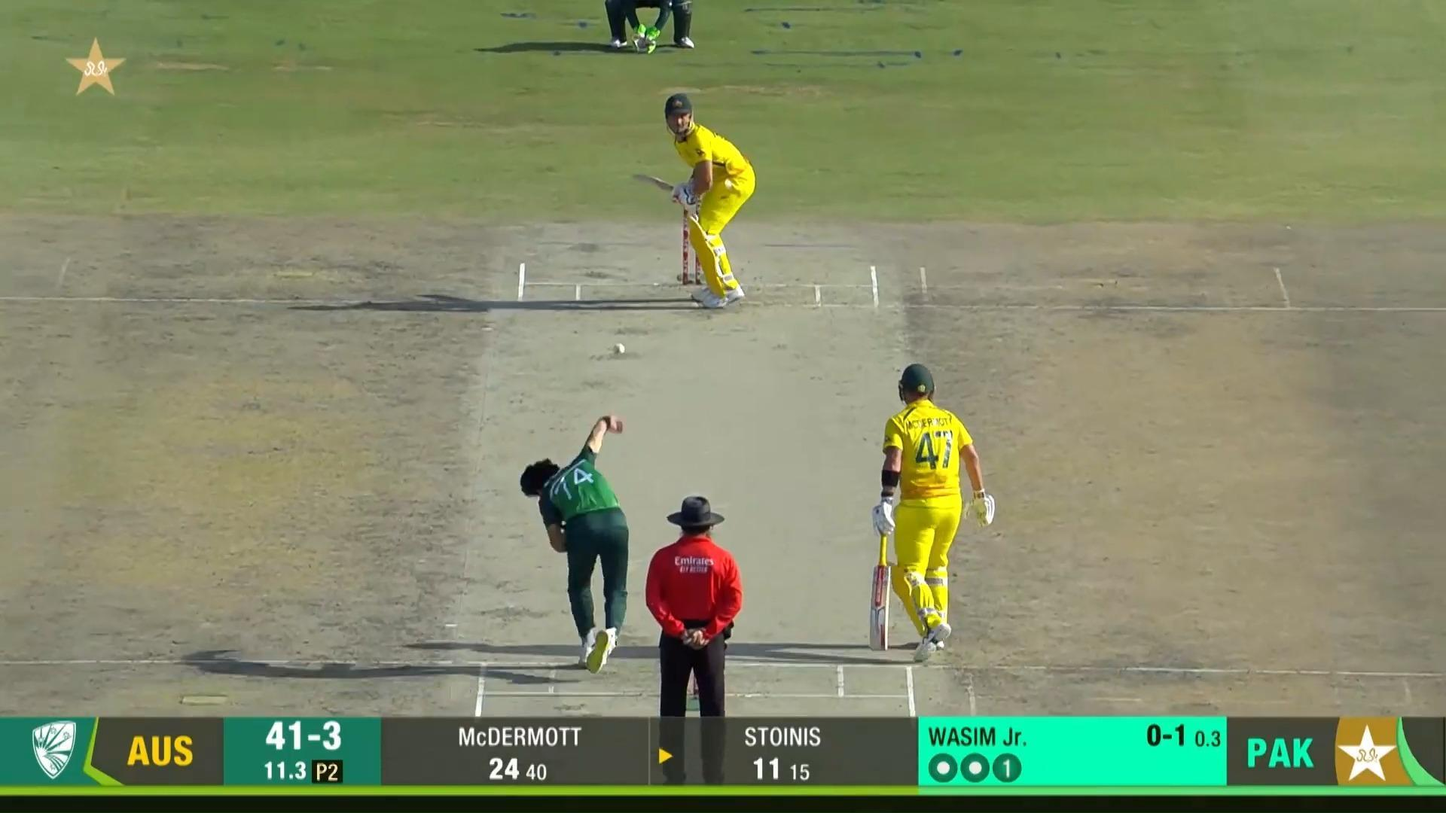BM 1: (633, 94, 755, 309)
BO: (519, 414, 629, 673)
